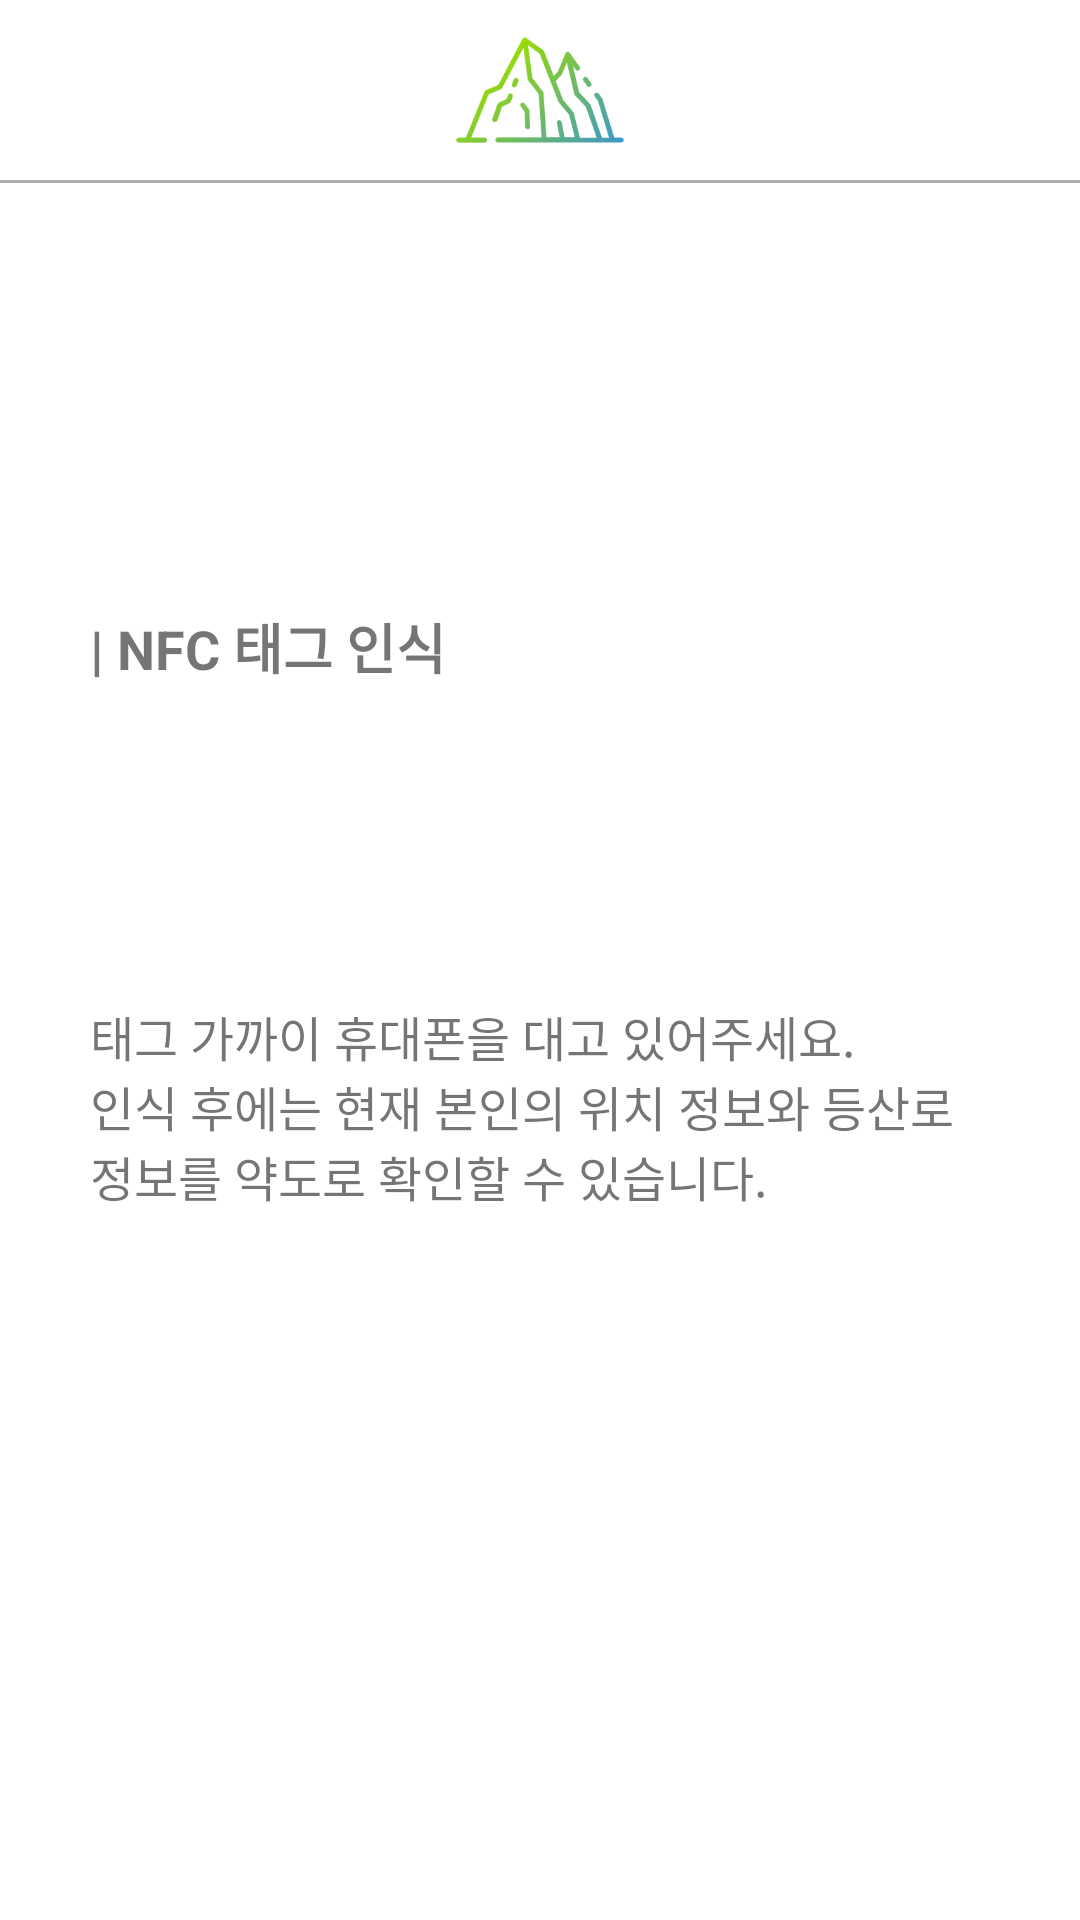

Named icons in this screenshot (1080 × 1920) and their centers, (x,y):
mountain: (540,90)
